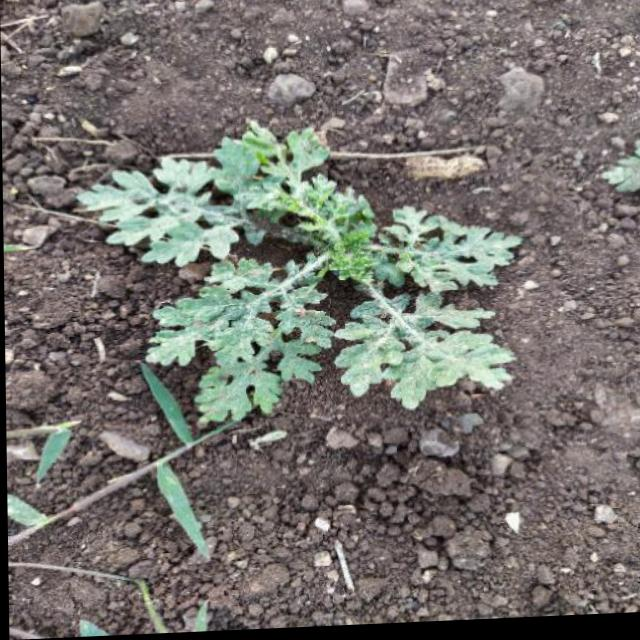weed: (82, 125, 523, 430)
